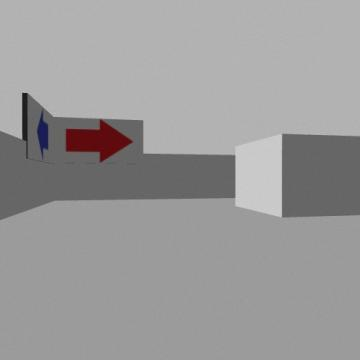blue_left: (37, 109, 48, 160)
red_right: (66, 119, 132, 161)
